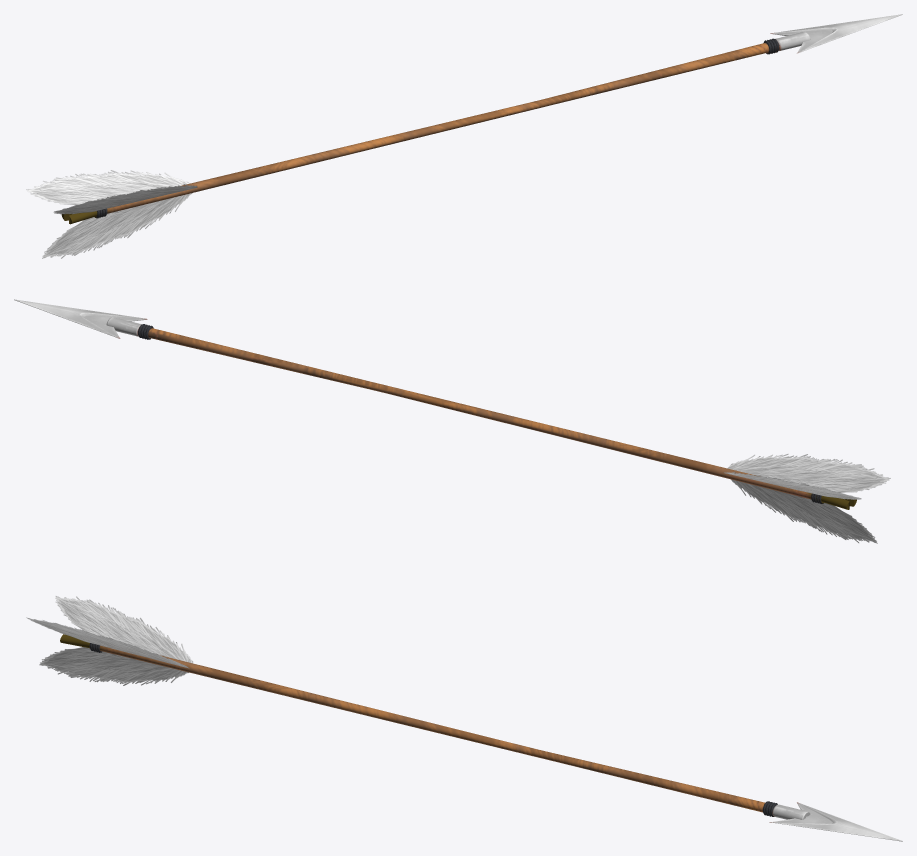
Rendered from arrow.glb.
The picture shows the model from 3 angles, top to bottom: view 1: azimuth 30°, elevation 25°; view 2: azimuth 150°, elevation 25°; view 3: azimuth 330°, elevation 25°; orthographic projection.
Parts seen in each view (by area): view 1: Object_3, Object_2; view 2: Object_3, Object_2; view 3: Object_3, Object_2.
Part boxes in pixels (x1=…): Object_3: x1=61, y1=14, x2=902, y2=224; Object_2: x1=26, y1=170, x2=197, y2=258; Object_3: x1=14, y1=299, x2=856, y2=509; Object_2: x1=724, y1=454, x2=890, y2=543; Object_3: x1=60, y1=634, x2=902, y2=841; Object_2: x1=26, y1=596, x2=193, y2=685.
Bounding box in the file's own units: 5.82 × 0.477 × 0.45.
Materials: 2 (2 with a texture image).
